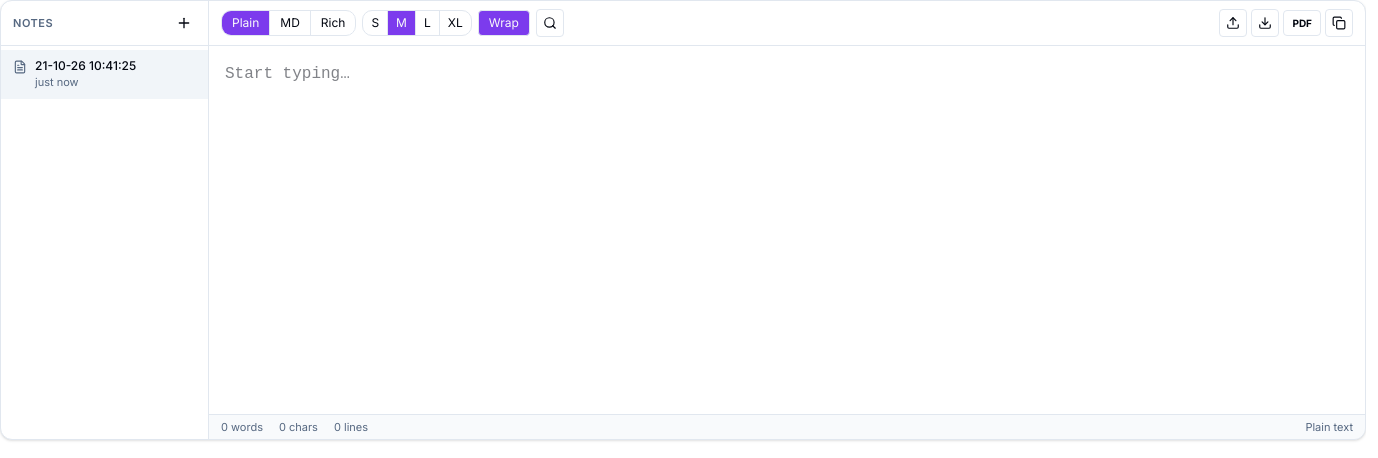
EditorPad › switches to rich mode when Rich button is clicked
This screenshot has width=1378, height=458.
What coordinates should you click on to do the following:
click the button "Rich"
I would click on:
 (333, 23)
Its box is [310,11,355,35].
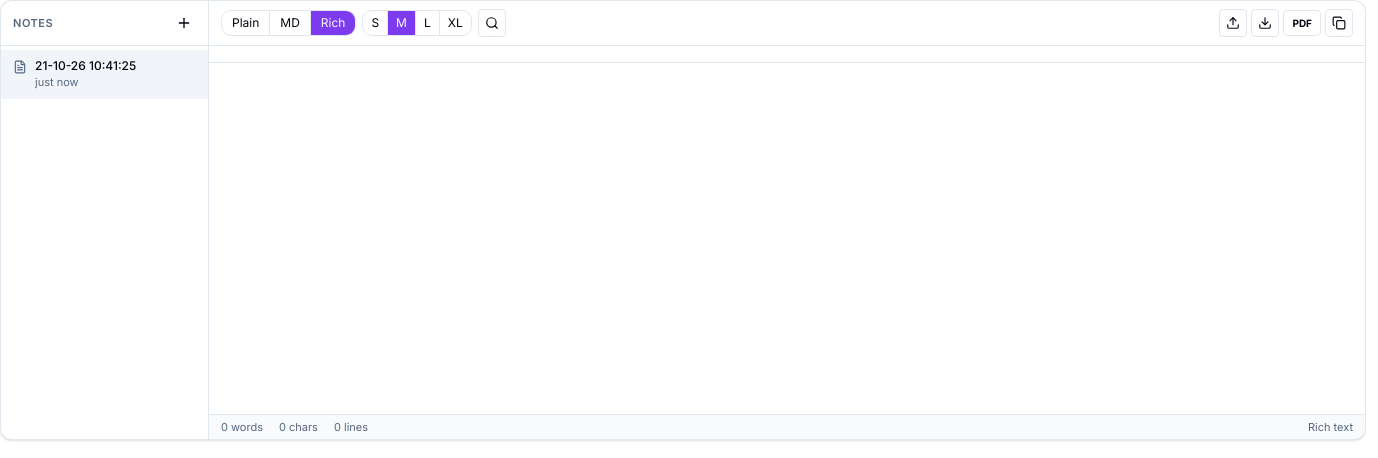
Expected: the field with placeholder "Start typing…" is not shown
Expected: the text "Rich text" is shown, [1308,418,1353,435]
